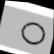no answer: (18, 18, 47, 48)
